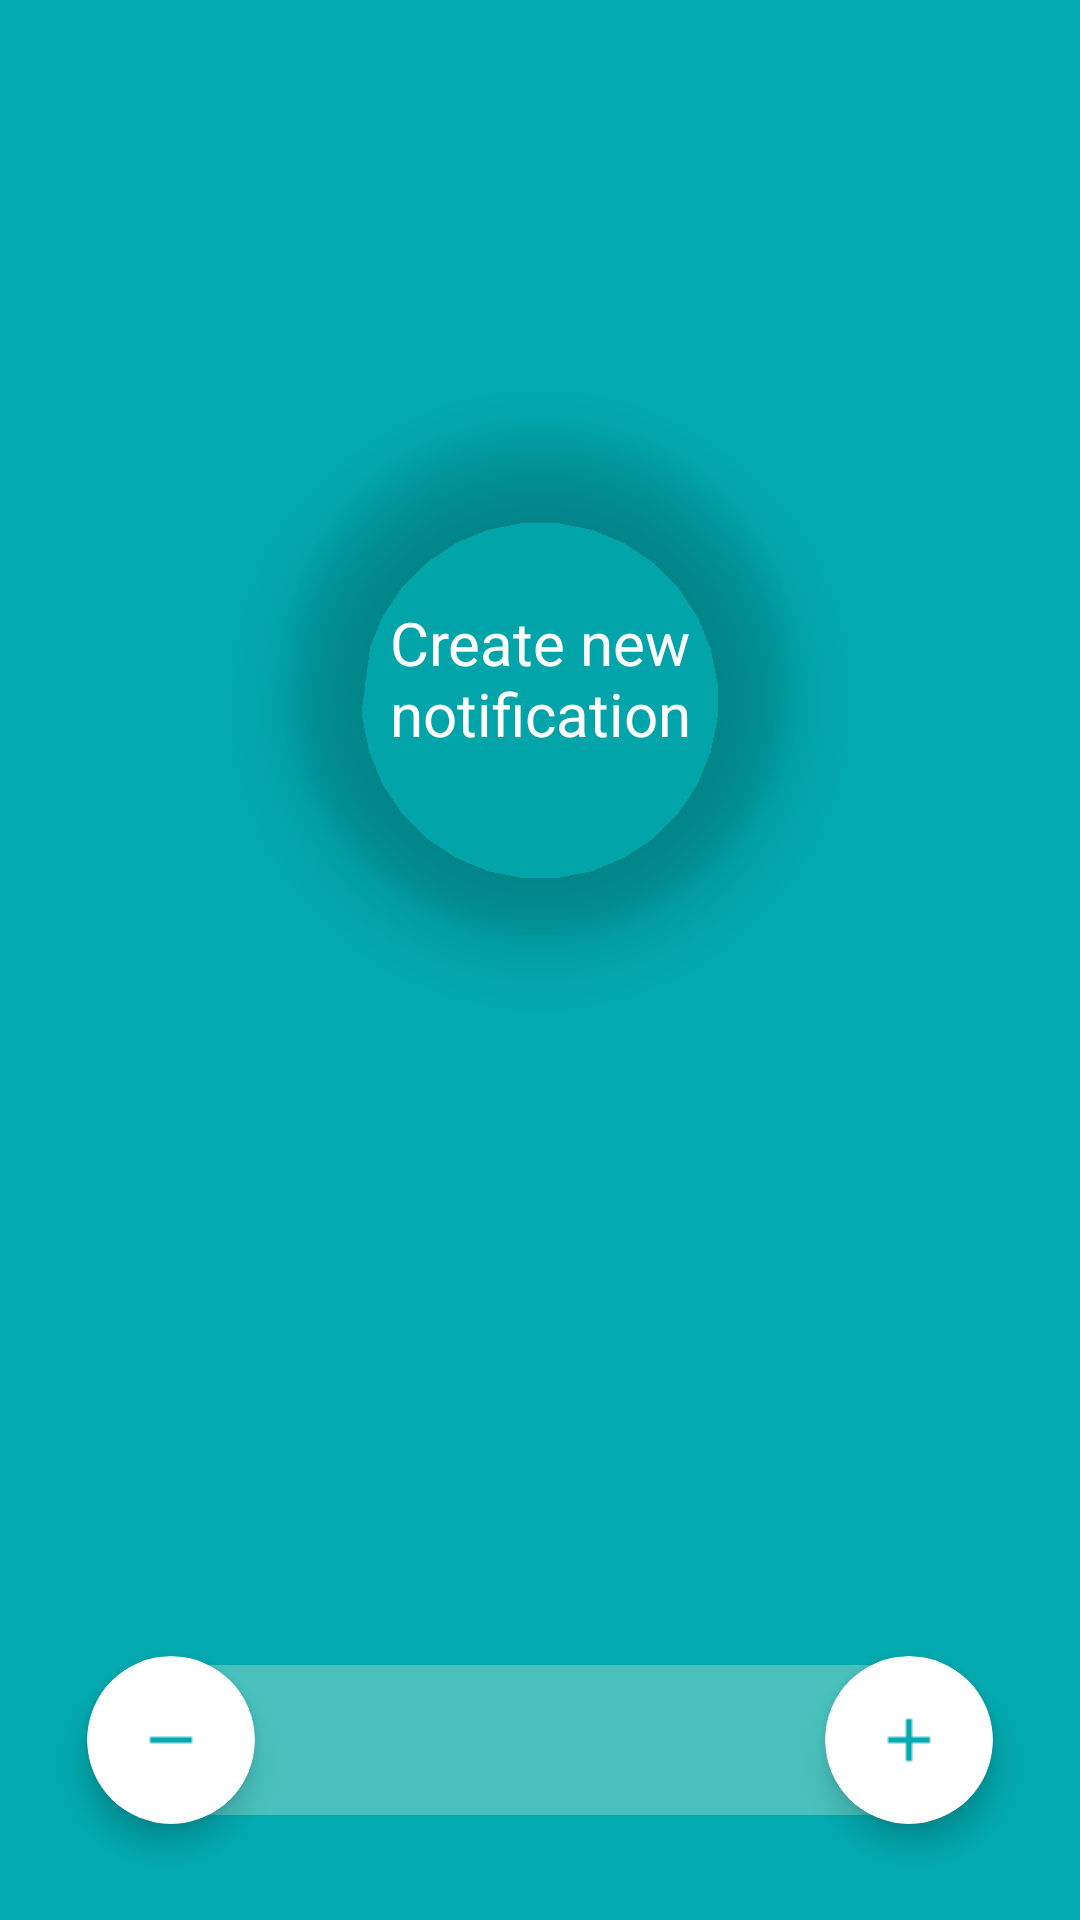

Named icons in this screenshot (1080w x 1920h) and their bounding boxes, (x1, y1, x2, y2):
minus: (149, 1736, 193, 1744)
plus: (887, 1718, 931, 1762)
